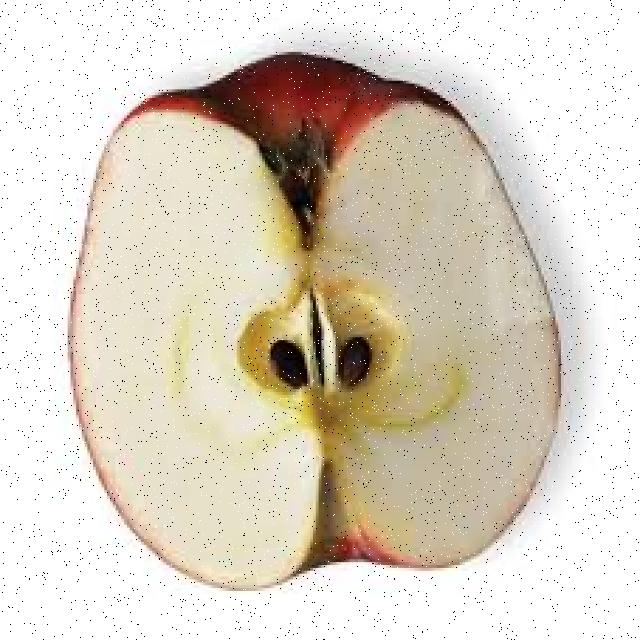Apple: (67, 53, 565, 592)
